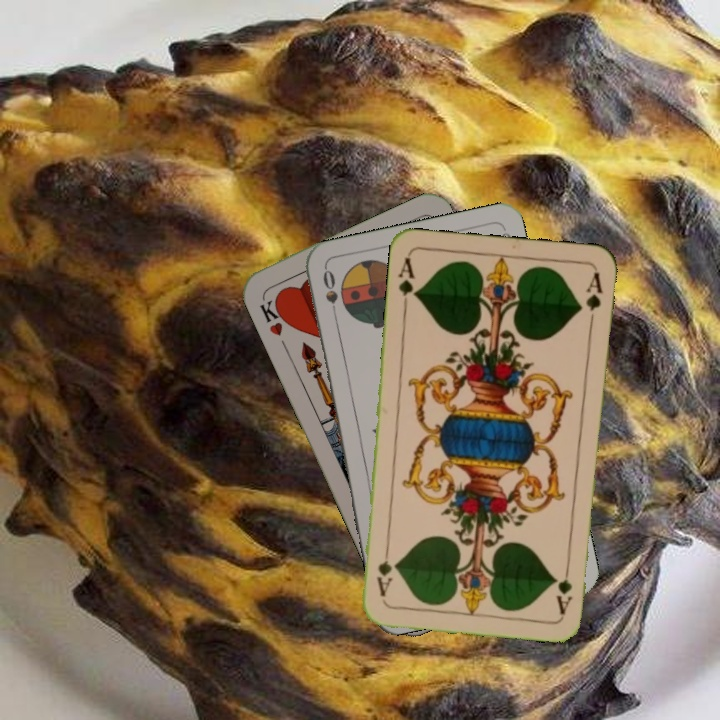GA: (394, 253, 420, 312), (553, 558, 575, 617)
HK: (255, 293, 292, 339)
SO: (319, 265, 341, 325)
